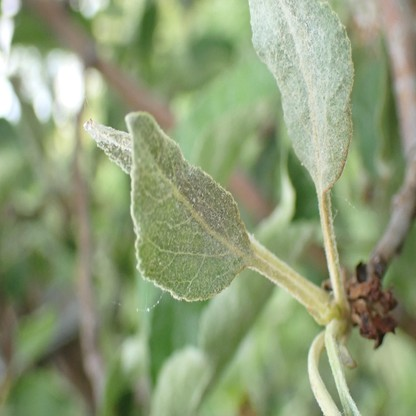powder: (84, 112, 255, 301), (251, 0, 355, 189), (85, 123, 132, 171)
